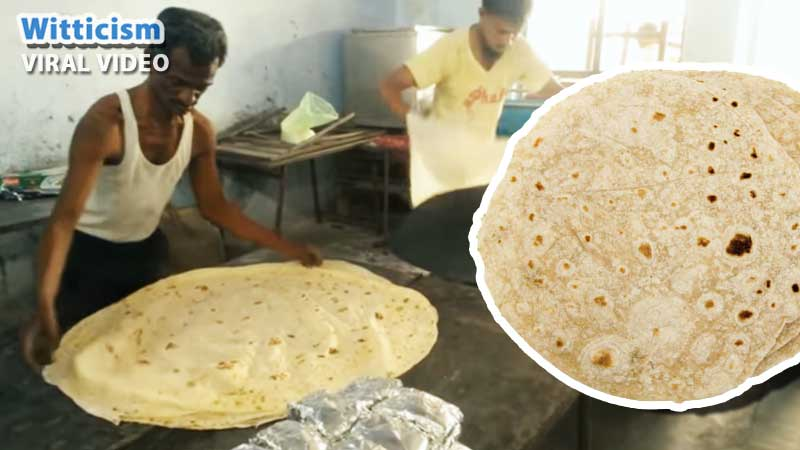roti: (477, 65, 797, 417)
